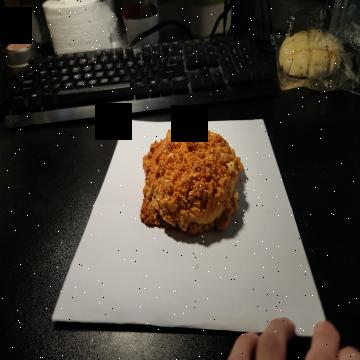soboru_bread: (139, 120, 244, 239)
